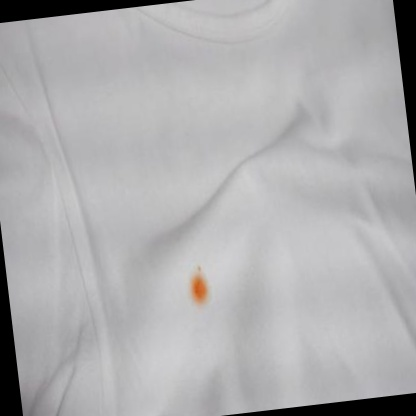kimchi: (185, 260, 216, 309)
